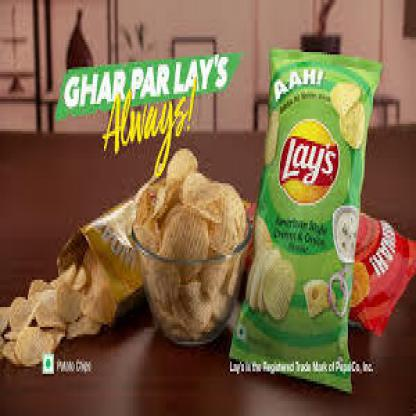cream_and_onion: (225, 46, 380, 392)
